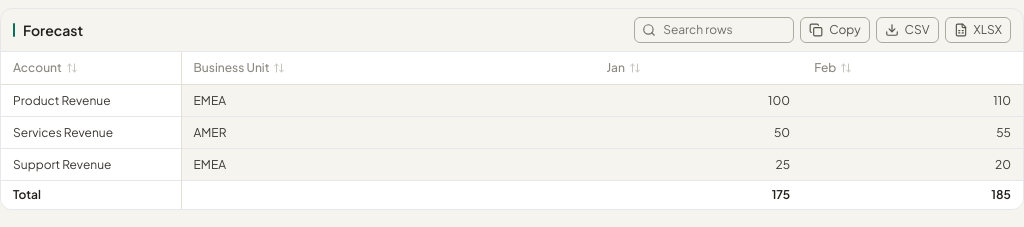
Test: DataTable › totals › sums only the columns marked total, over the filtered set
Check: the text "175" is shown, box [594,180,802,209]
Check: the text "185" is shown, box [802,180,1023,209]
Type "EMEA" into the search field at (714, 30), box [634,17,794,43]
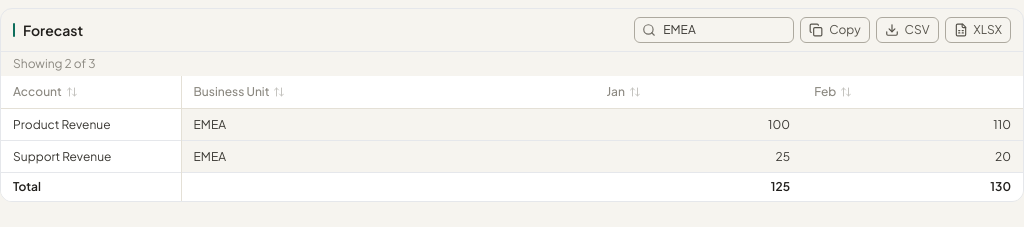
Check: the text "125" is shown, box [594,172,802,201]
